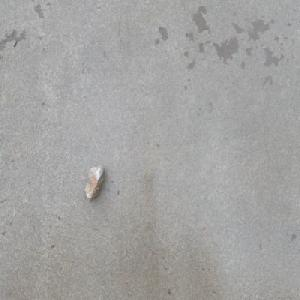Rock: (84, 163, 104, 203)
